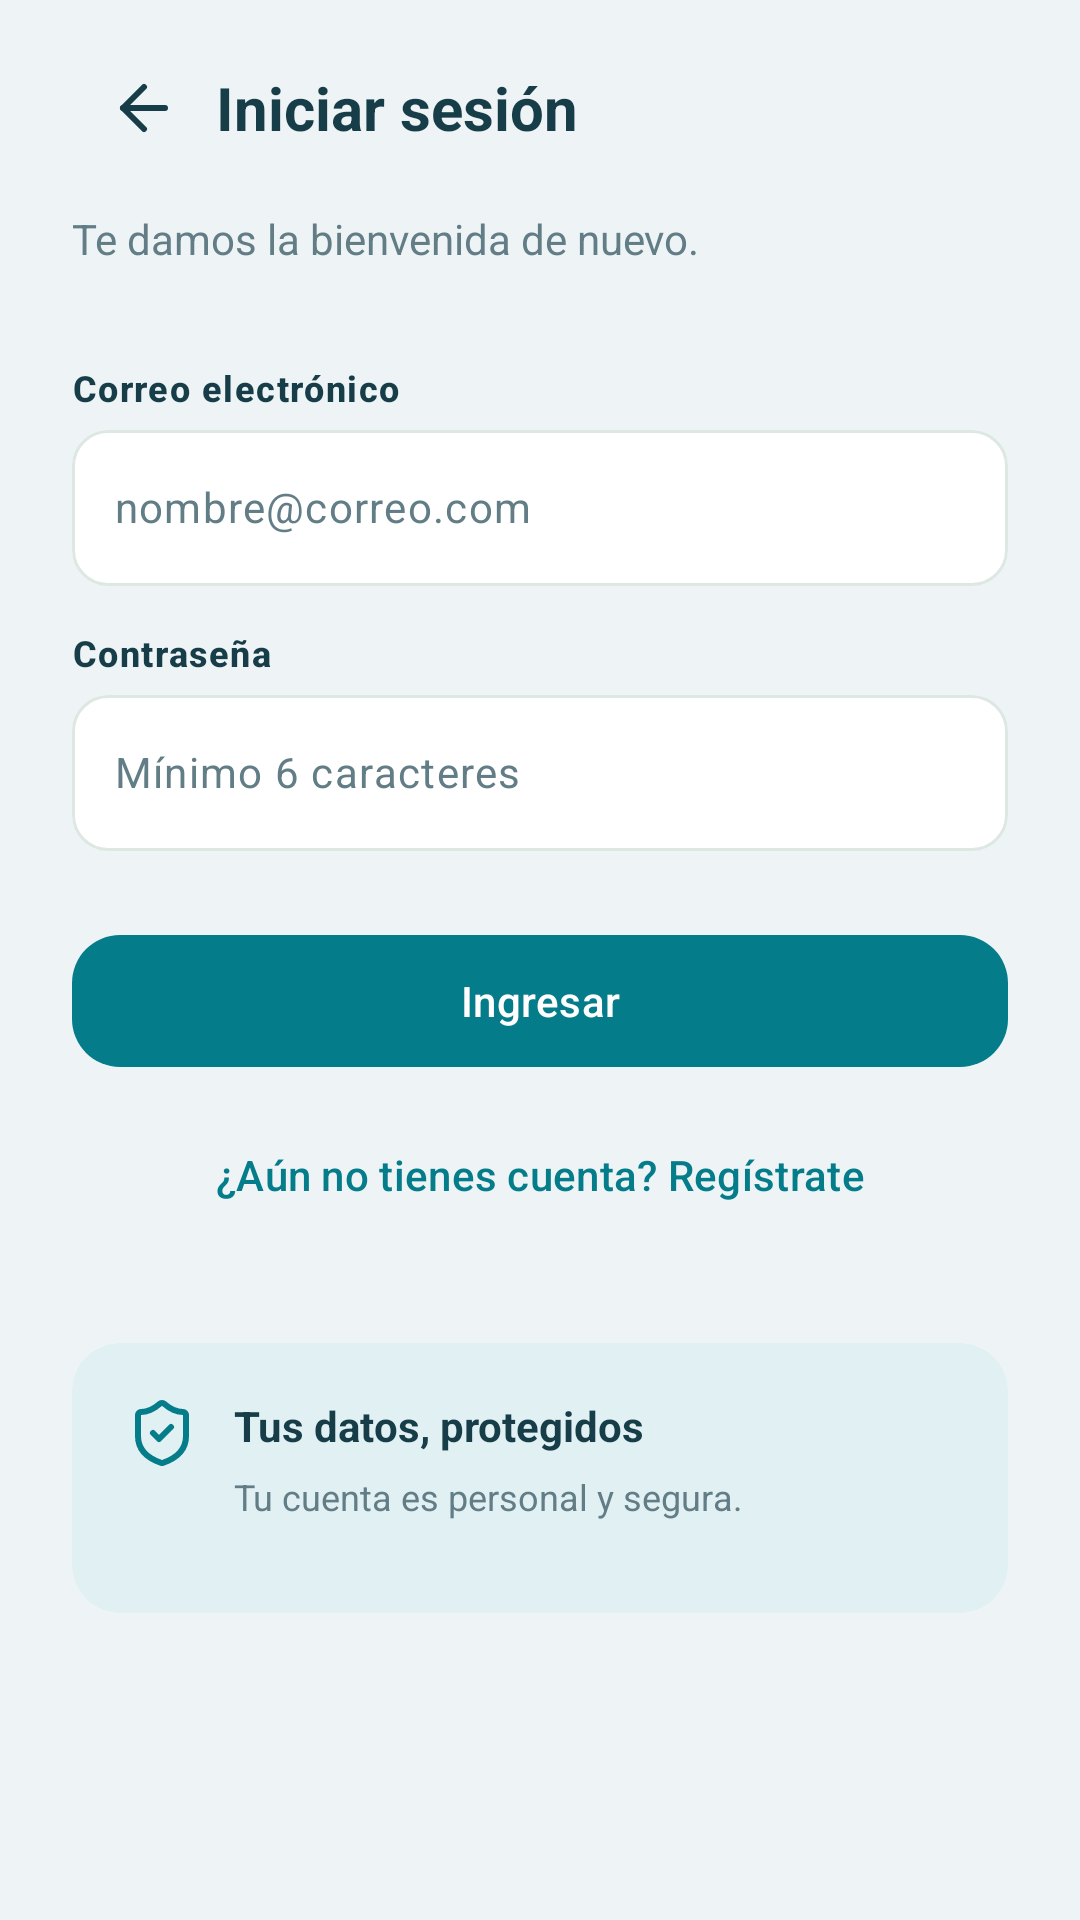

Icons on this 1080px×1920px Android screen, each with its box as detection(x1, y1, x2, y2):
Volver: detection(120, 84, 168, 132)
